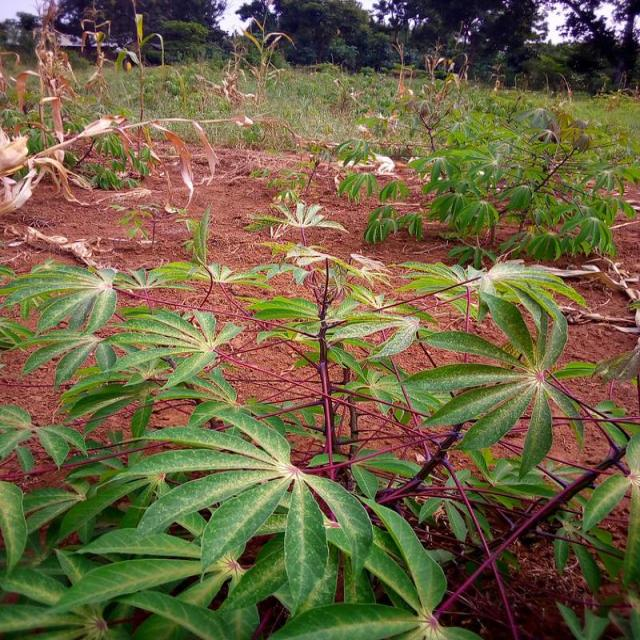cassava leaf: (378, 268, 595, 479)
